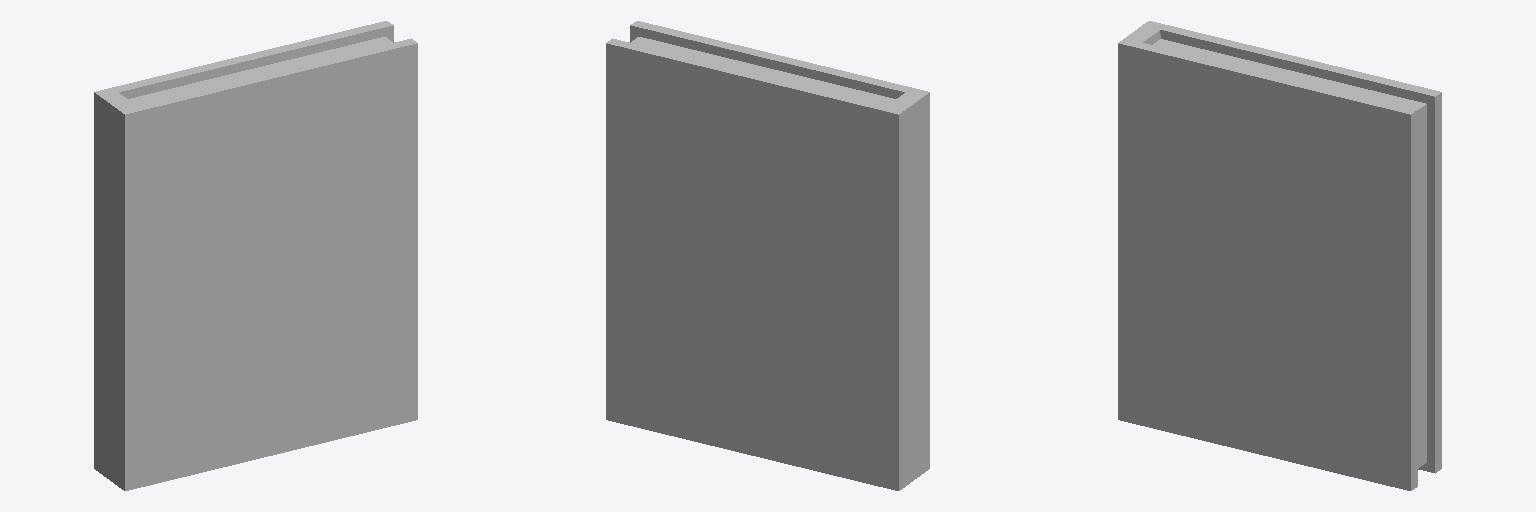
The robot description file, URDF, robot "bookcase":
<?xml version="1.0"?>
<robot name="bookcase">
    <link name="bookcase">
        <inertial>
          <origin xyz="0 0 0" rpy="0 0 0" />
          <mass value="0.3" />
          <inertia ixx="0.000363" ixy="0" ixz="0" iyy="0.000363" iyz="0"
              izz="0.00006" />
        </inertial>
        <visual>
            <geometry>
                <mesh filename="CHAHIN_NOTEBOOK.obj"/>
            </geometry>
            <material name="red">
              <color rgba="0.8 0.8 0.8 1" />
            </material>
        </visual>
        <collision>
            <geometry>
                <mesh filename="CHAHIN_NOTEBOOK.obj"/>
            </geometry>
        </collision>
    </link>
</robot>

--- Facts derived from the render (not from the file) ---
The picture shows the robot from 3 angles, left to right: view 1: azimuth 30°, elevation 25°; view 2: azimuth 150°, elevation 25°; view 3: azimuth 330°, elevation 25°; orthographic projection.
Robot: bookcase — 1 links, 0 joints (none); root link bookcase; default pose: all joints at 0.
Links seen in each view (by area): view 1: bookcase; view 2: bookcase; view 3: bookcase.
Boxes of the visible links, x1,y1,x2,y2 form: bookcase: (94,21,417,490); bookcase: (606,21,929,490); bookcase: (1118,21,1441,490).
Bounding box of the posed robot: 0.718 × 0.1316 × 0.8821 m (x, y, z).
Meshes: 1 distinct files referenced, 1 mesh visuals loaded (1 OBJ).
